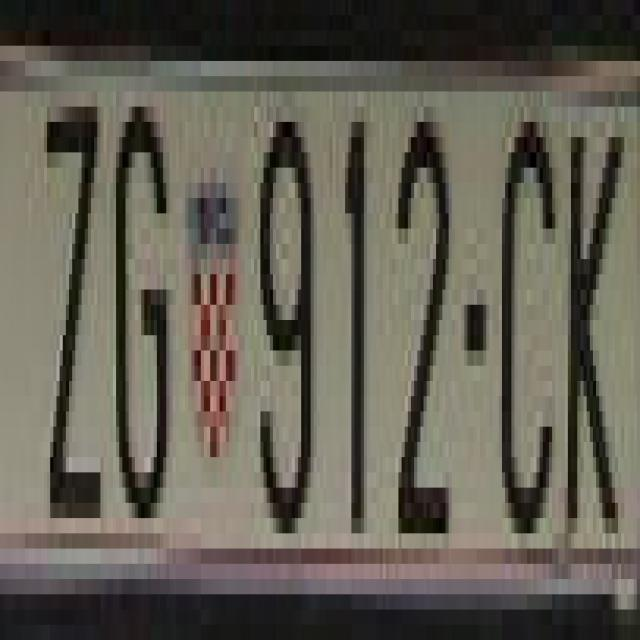1: (336, 61, 373, 564)
2: (392, 76, 455, 549)
9: (251, 46, 311, 533)
C: (499, 106, 555, 548)
G: (107, 91, 169, 564)
K: (564, 106, 630, 548)
Z: (41, 61, 100, 533)
